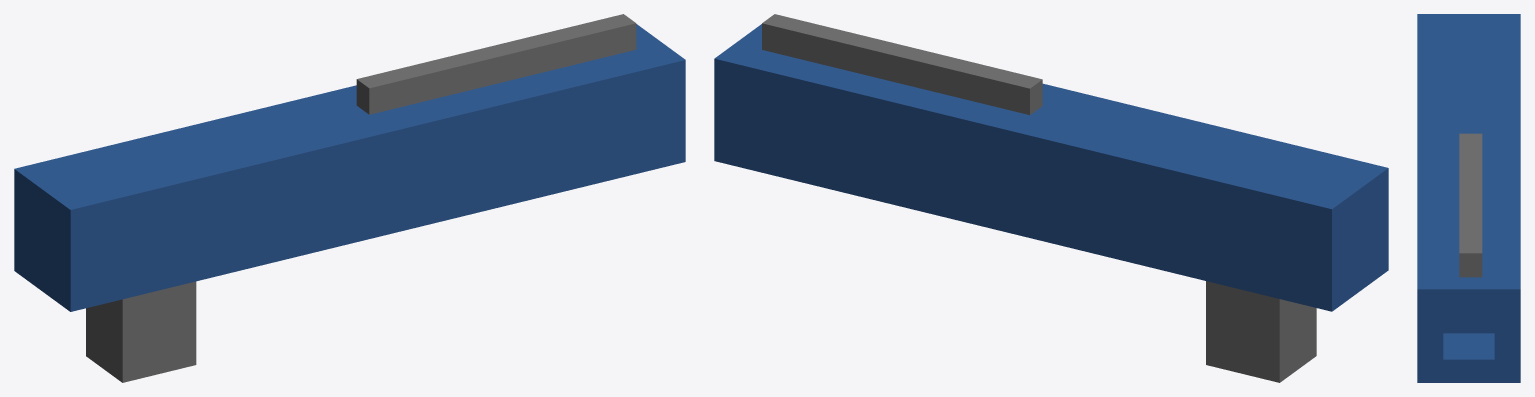
The model's file is Users.dae.
3 views of the same model, side by side, from view 1: azimuth 30°, elevation 25°; view 2: azimuth 150°, elevation 25°; view 3: azimuth 270°, elevation 25° (orthographic). The views are drawn at different scales.
Parts seen in each view (by area): view 1: Cube, Cube_001, Cube_002; view 2: Cube, Cube_001, Cube_002; view 3: Cube, Cube_001.
Part boxes in pixels (box(x1,y1,x2,y2)): Cube: box(14, 24, 685, 311); Cube_001: box(356, 14, 636, 114); Cube_002: box(86, 281, 196, 382); Cube: box(714, 24, 1388, 311); Cube_001: box(762, 14, 1042, 114); Cube_002: box(1206, 281, 1316, 382); Cube: box(1417, 14, 1520, 382); Cube_001: box(1459, 133, 1482, 277).
Size of the model in its own units: 2.91 by 0.4614 by 1.
